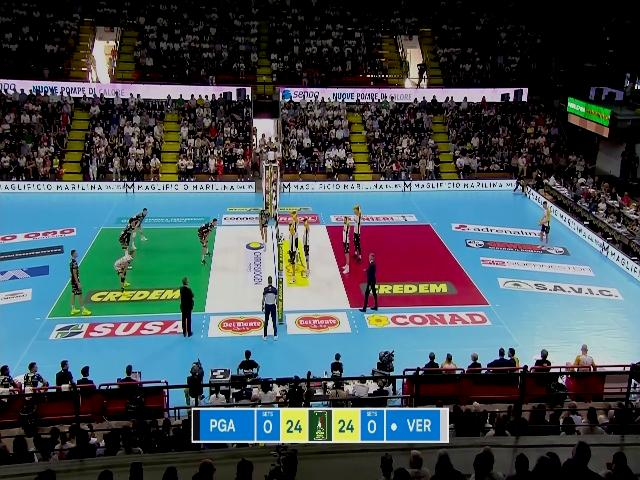volleyball court: (49, 222, 491, 315)
